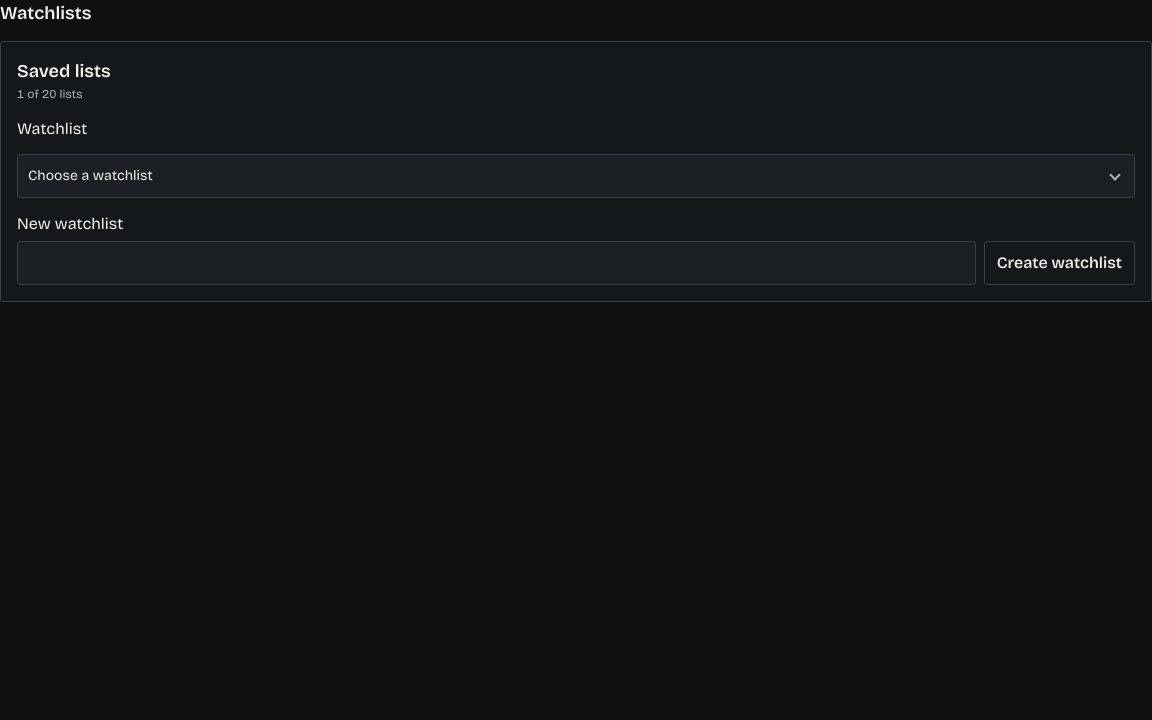
Test: Watchlists › shows gapped server order and posts the full order only after Move succeeds
This screenshot has width=1152, height=720.
Later steps or results of the test are not shown.
Step 1. Select "Core" in the dropdown labelled "Watchlist" → coordinates (576, 176), box [17,154,1135,198]
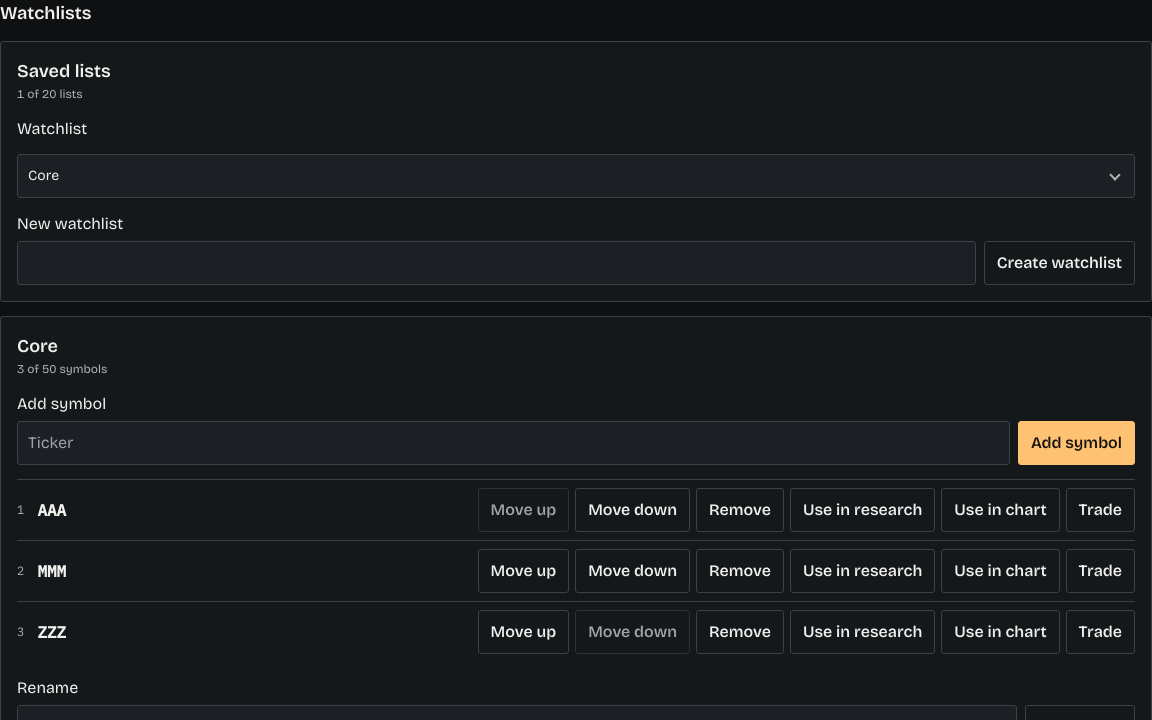
expect the button with aria-label "Move AAA up" is disabled: met, box [478,488,569,532]
expect the button with aria-label "Move ZZZ down" is disabled: met, box [575,610,690,654]
Step 2. Click the button with aria-label "Move MMM down" → coordinates (633, 571), box [575,549,690,593]
(page scrolled)
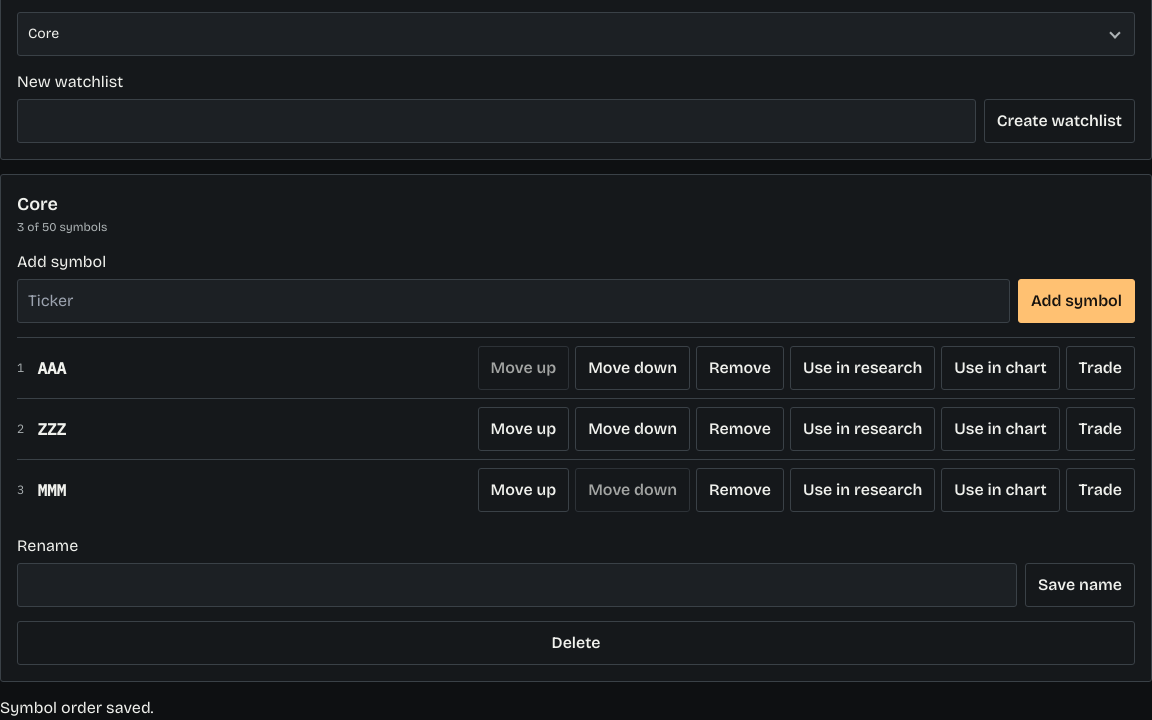
expect the text "Symbol order saved." is shown: met, box [0,698,154,717]
